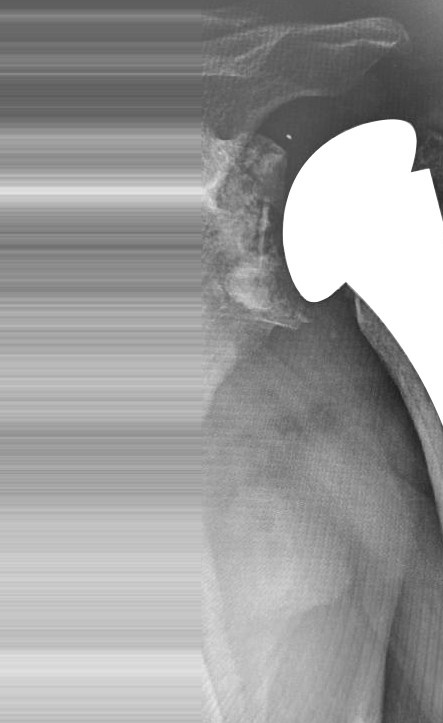Shoulder - Anotomical - Stryker: (267, 106, 443, 306)
